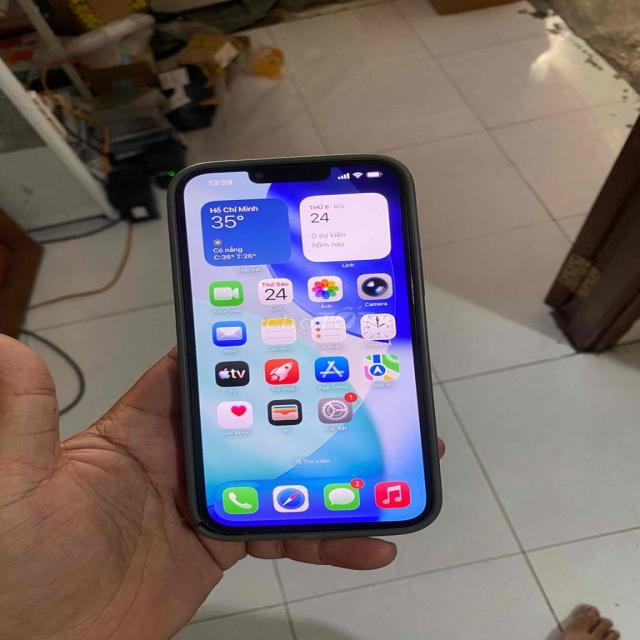gen_12_13: (164, 153, 442, 539)
